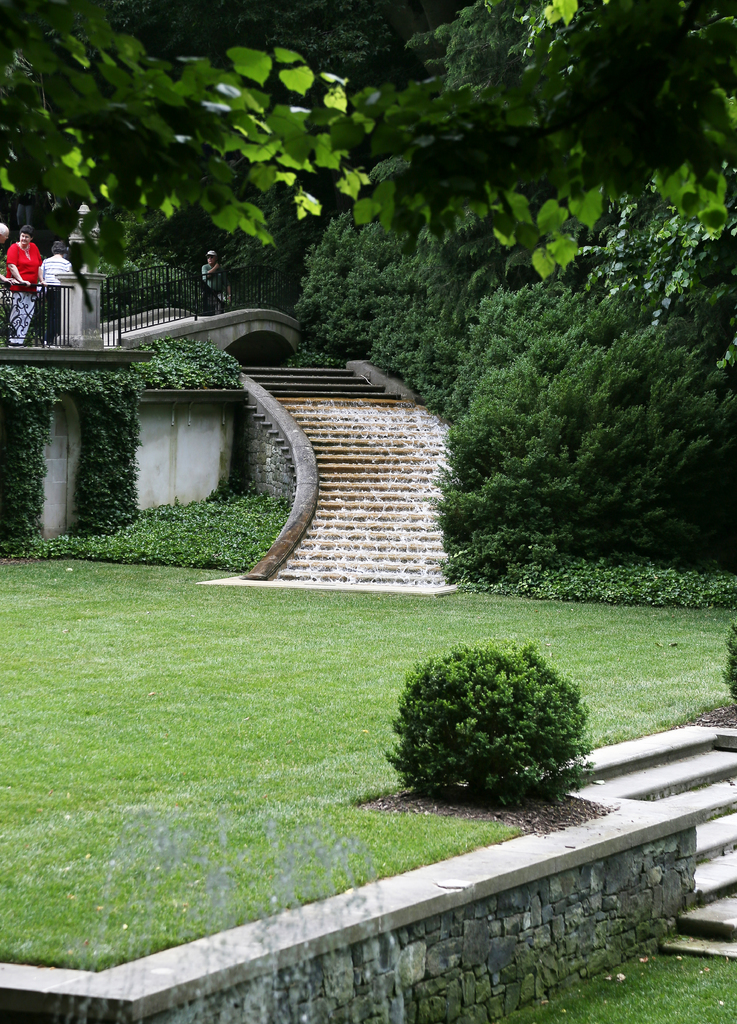Tree: (0, 0, 735, 564)
